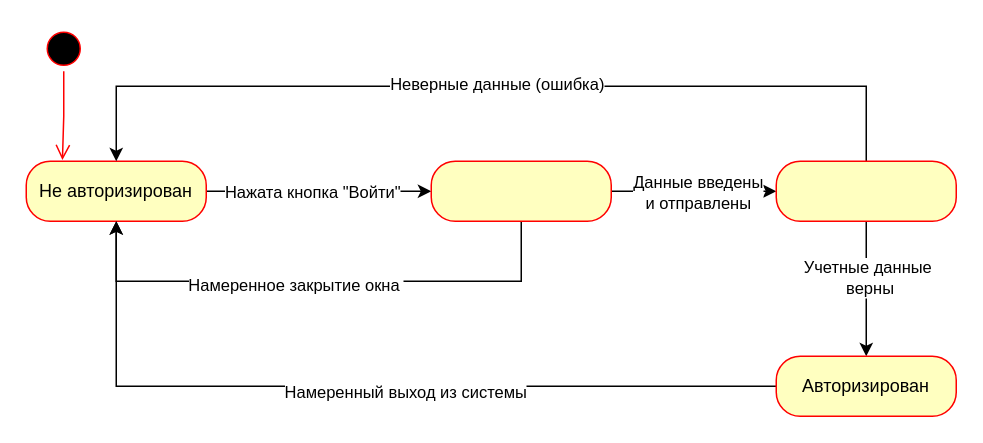
Some shapes in this 983 by 443 pixel diagram are drawn without their labels. The centre of each missing label's shape, as x and y in pixels:
"Ввод данных" goes at [520,190].
"Проверка данных" goes at [865,190].
